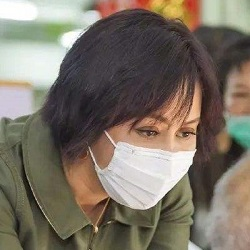mask: (85, 118, 198, 212)
